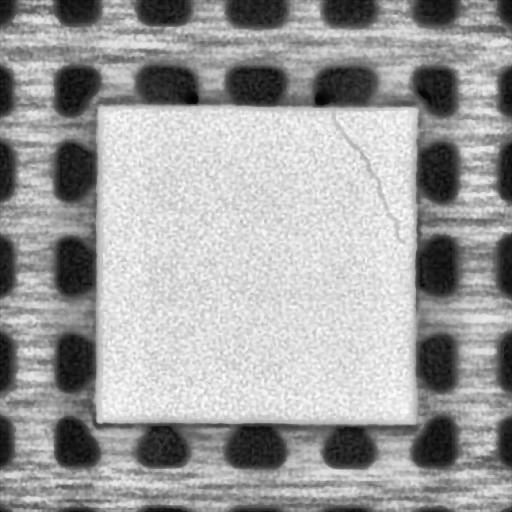DIE_CRACK: (328, 112, 404, 242)
